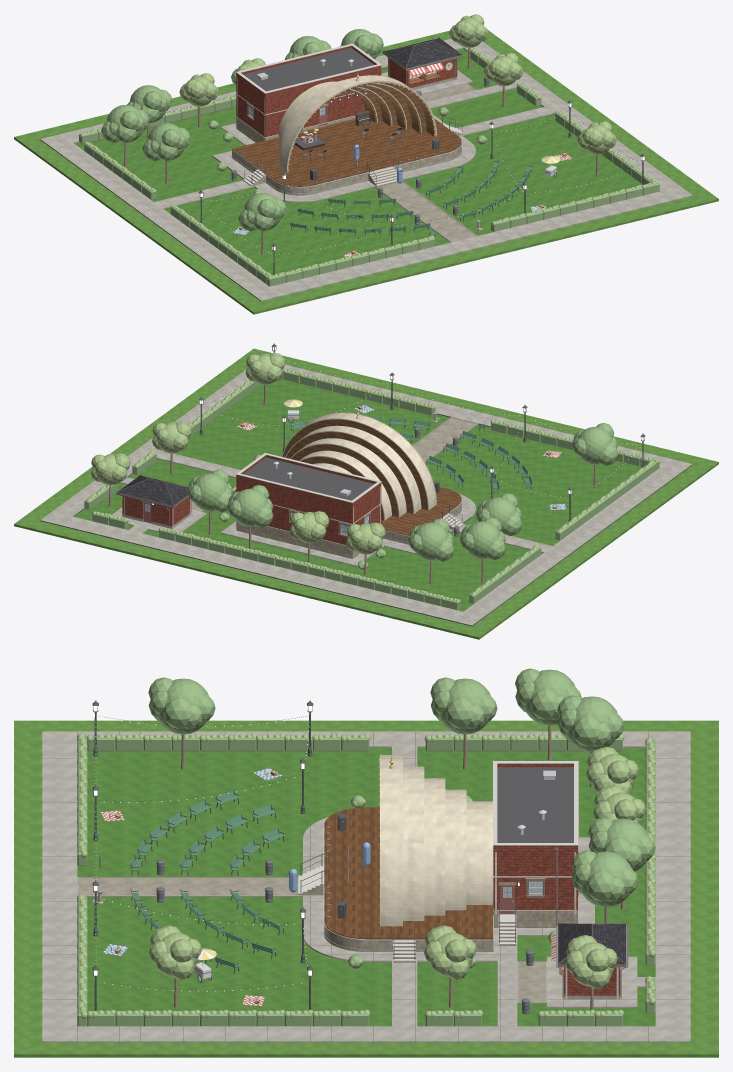
File: building_assembled.glb
3 renders of one model, top to bottom at view 1: azimuth 30°, elevation 25°; view 2: azimuth 150°, elevation 25°; view 3: azimuth 270°, elevation 25°, orthographic. The views are drawn at different scales.
Visible parts, largest first — view 1: geometry_393, geometry_389, geometry_394, geometry_3, geometry_7, geometry_8, geometry_143, geometry_391, geometry_0, geometry_679, geometry_695, geometry_675 (+12 smaller); view 2: geometry_393, geometry_389, geometry_394, geometry_7, geometry_8, geometry_143, geometry_691, geometry_695, geometry_679, geometry_683, geometry_687, geometry_3 (+13 smaller); view 3: geometry_393, geometry_389, geometry_394, geometry_7, geometry_3, geometry_143, geometry_391, geometry_675, geometry_679, geometry_687, geometry_683, geometry_695 (+16 smaller).
Boxes of the visible parts, x1,y1,x2,y2 form: geometry_393: (74,48,642,275); geometry_389: (40,39,692,301); geometry_394: (14,30,718,314); geometry_3: (232,118,461,186); geometry_7: (278,75,436,172); geometry_8: (288,82,434,172); geometry_143: (243,48,374,91); geometry_391: (377,83,476,241); geometry_0: (232,130,463,193); geometry_679: (238,193,286,231); geometry_695: (101,105,149,143); geometry_675: (142,123,190,160); geometry_393: (74,379,641,611); geometry_389: (40,364,692,625); geometry_394: (14,348,718,639); geometry_7: (281,412,436,520); geometry_8: (282,419,427,520); geometry_143: (243,457,373,500); geometry_691: (227,485,273,527); geometry_695: (460,517,505,559); geometry_679: (572,423,618,465); geometry_683: (408,518,454,561); geometry_687: (187,469,233,512); geometry_3: (233,487,461,535); geometry_393: (77,747,655,1026); geometry_389: (42,731,690,1042); geometry_394: (14,720,718,1057); geometry_7: (380,754,493,926); geometry_3: (324,807,493,939); geometry_143: (497,767,573,842); geometry_391: (78,878,545,1001); geometry_675: (430,677,497,734); geometry_679: (148,677,215,734); geometry_687: (571,850,638,907); geometry_683: (557,695,624,752); geometry_695: (515,668,581,725).
Bounding box in the file's own units: 56 × 10.55 × 50.
60 materials, 14 textured.
